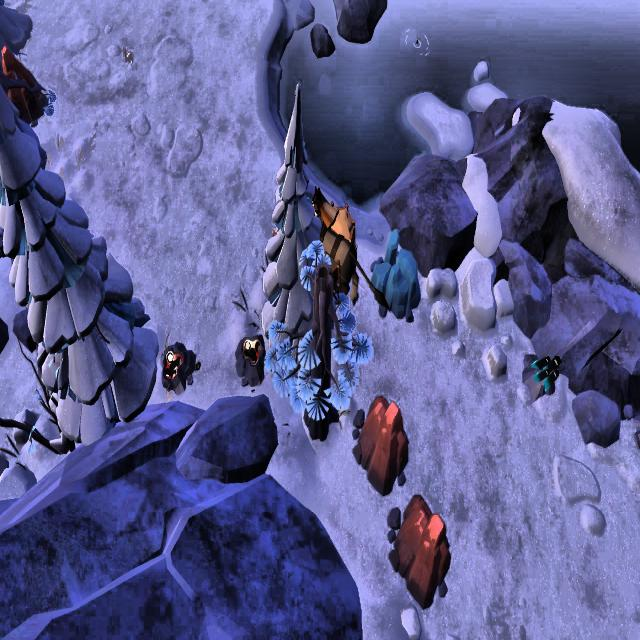ore_t4: (532, 348, 560, 394)
rock_t4: (372, 228, 418, 325)
rock_t5: (390, 496, 452, 611), (352, 391, 409, 494), (0, 45, 54, 134)
